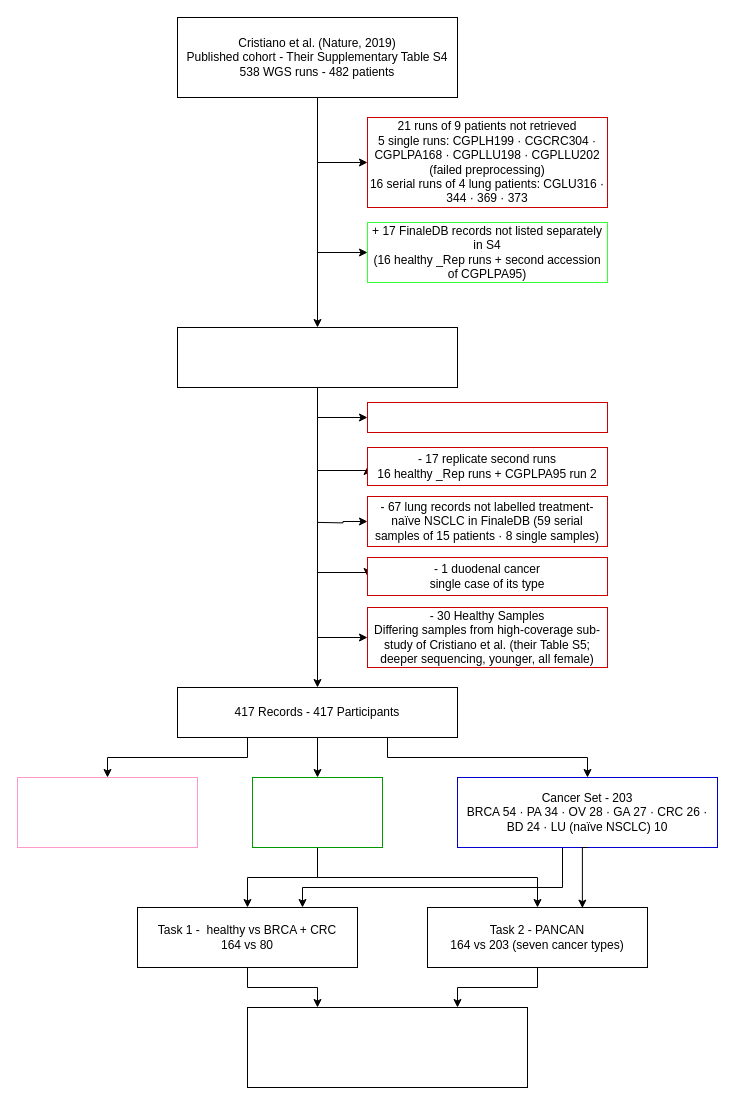
Image size: 735x1105. Some labels were removed from this diagram. The centre of each missing label's shape, as x and y in pixels:
"- 2 lymphocyte gDNA CGH14 · CGH15" goes at point 487,417.
"FinaleDB Retrieved Study Records 534 records - 473 individuals" goes at point 317,357.
"Healthy Set - 164" goes at point 317,812.
"Panel of Normals 50 Healthy WGS for TSS QC filtering, Fig 1, ichorCNA PoN" goes at point 107,812.
"Sample Assignment, out-of-fold predictions in Supplementary Table" goes at point 387,1047.
